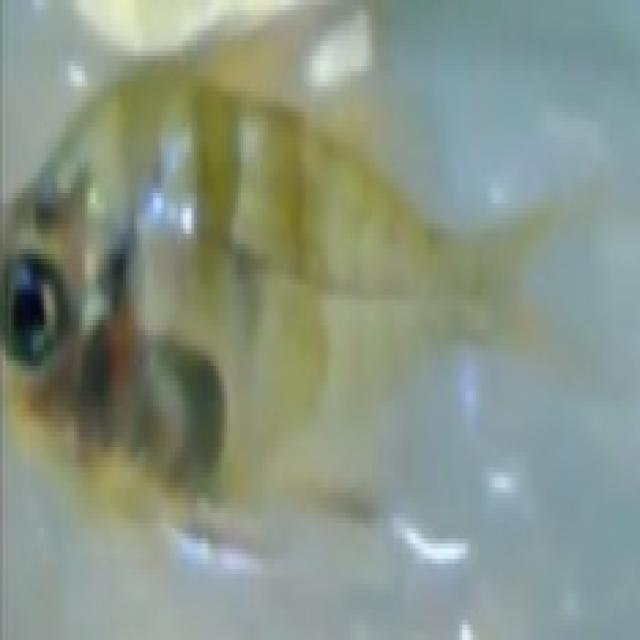Glass-Perchlet: (0, 26, 628, 603)
